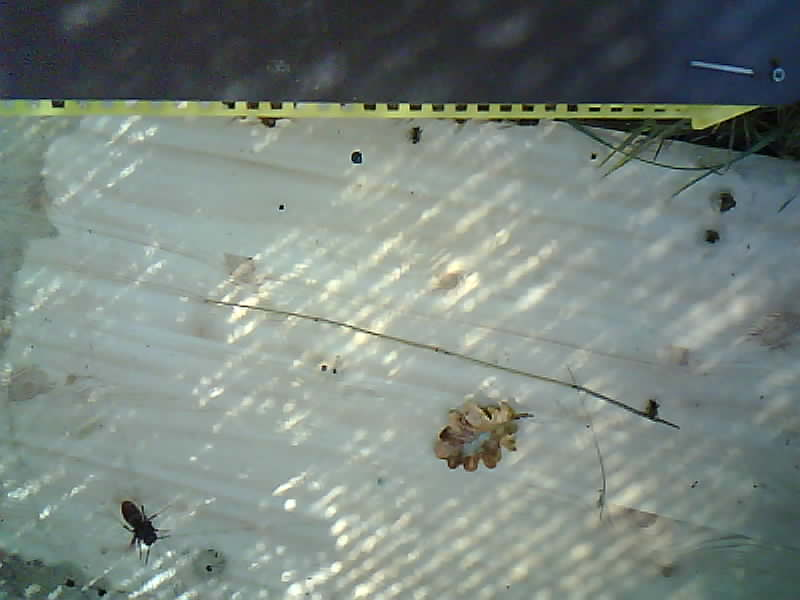hornet: (116, 497, 162, 551)
